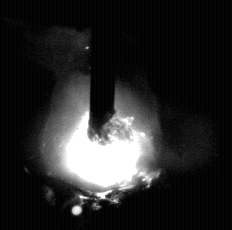arame: (90, 0, 117, 137)
poca: (38, 0, 161, 230)
